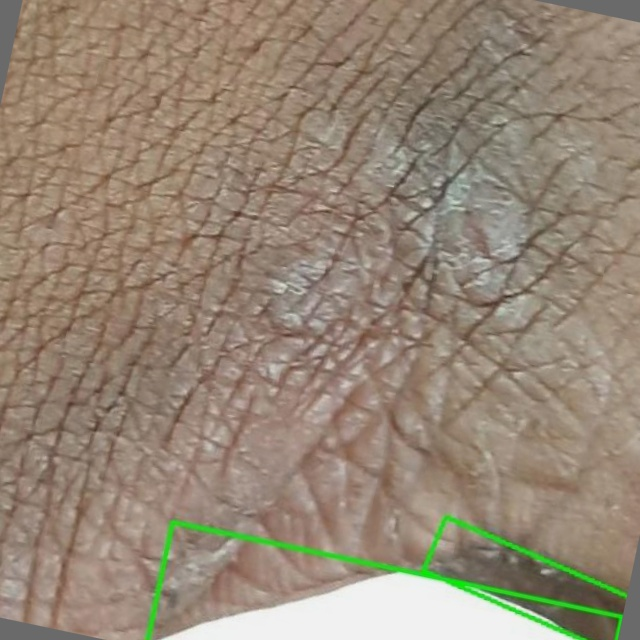Scabies: (421, 517, 625, 639)
